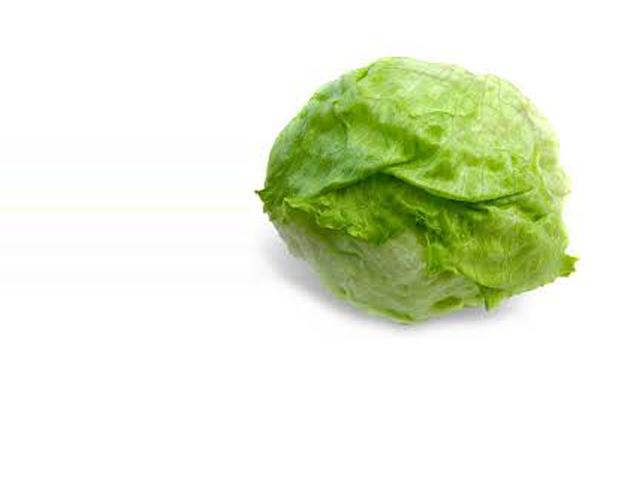lettuce: (261, 37, 570, 336)
